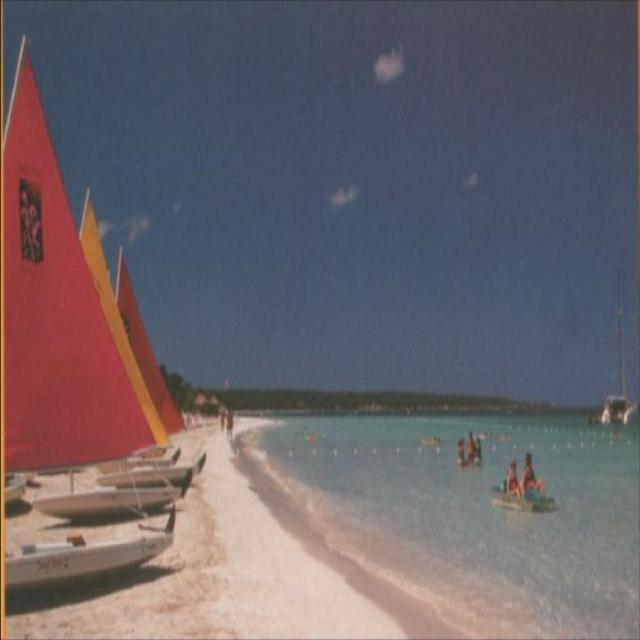Boat: (36, 187, 181, 519), (98, 236, 207, 486)
